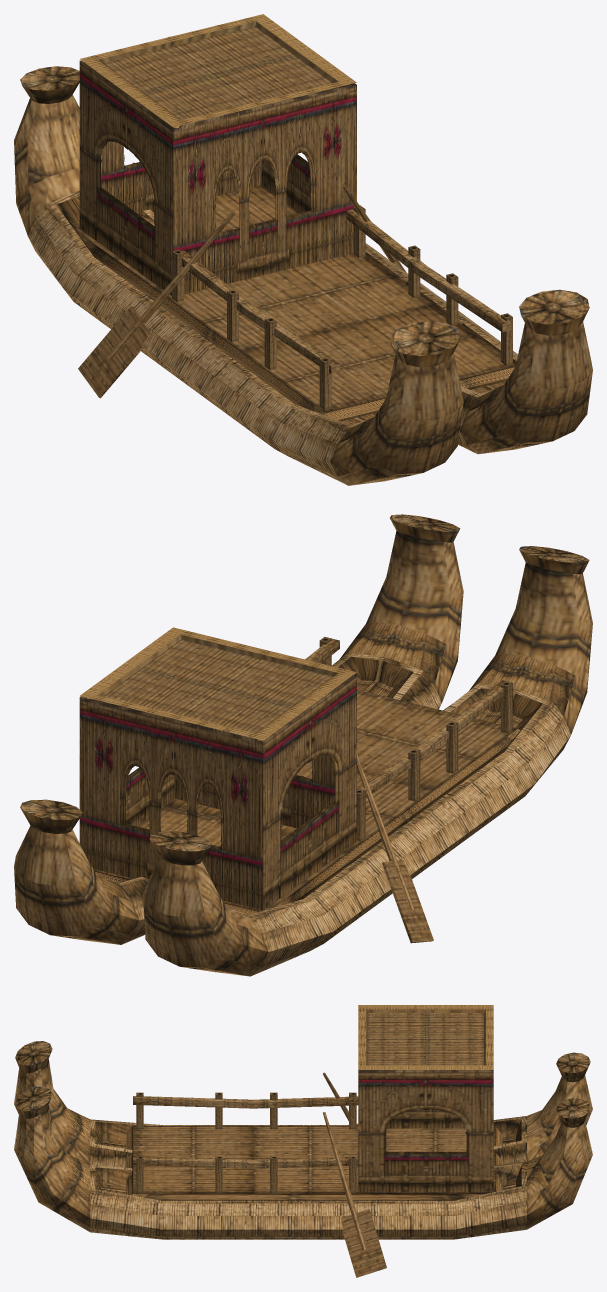
Rendered from ship_arrow.dae.
The picture shows the model from 3 angles, top to bottom: view 1: azimuth 30°, elevation 25°; view 2: azimuth 150°, elevation 25°; view 3: azimuth 270°, elevation 25°; orthographic projection. The views are drawn at different scales.
Parts seen in each view (by area): view 1: ship_arrow.001; view 2: ship_arrow.001; view 3: ship_arrow.001.
Part boxes in pixels (left/top/right/bottom): ship_arrow.001: left=14, top=14, right=592, bottom=485; ship_arrow.001: left=14, top=514, right=592, bottom=976; ship_arrow.001: left=14, top=1005, right=592, bottom=1277.
Bounding box in the file's own units: 8.46 × 17.54 × 6.08.
